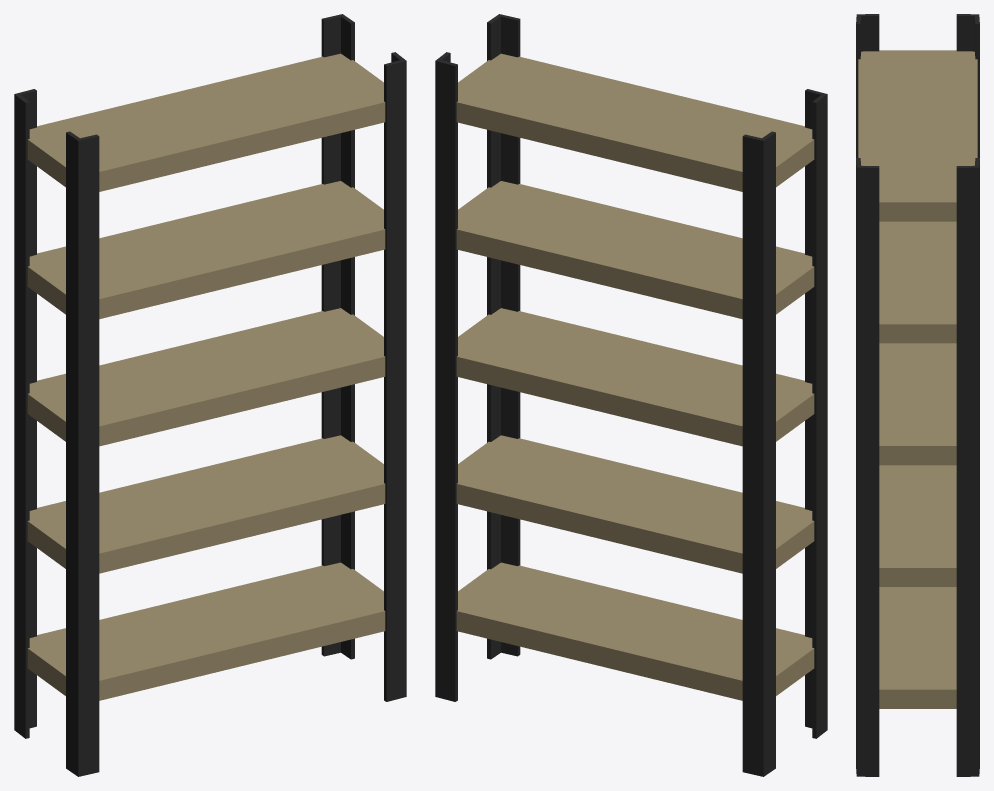
File: regał Ikea.fbx
3 renders of one model, left to right at view 1: azimuth 30°, elevation 25°; view 2: azimuth 150°, elevation 25°; view 3: azimuth 270°, elevation 25°, orthographic. The views are drawn at different scales.
Visible parts, largest first — view 1: Cube, Cube.001; view 2: Cube, Cube.001; view 3: Cube, Cube.001.
Boxes of the visible parts, x1,y1,x2,y2 form: Cube: (27,53,385,700); Cube.001: (14,14,406,776); Cube: (456,53,814,700); Cube.001: (435,14,827,776); Cube: (858,50,977,708); Cube.001: (856,14,979,776).
Bounding box in the file's own units: 79.21 × 146 × 26.94.
